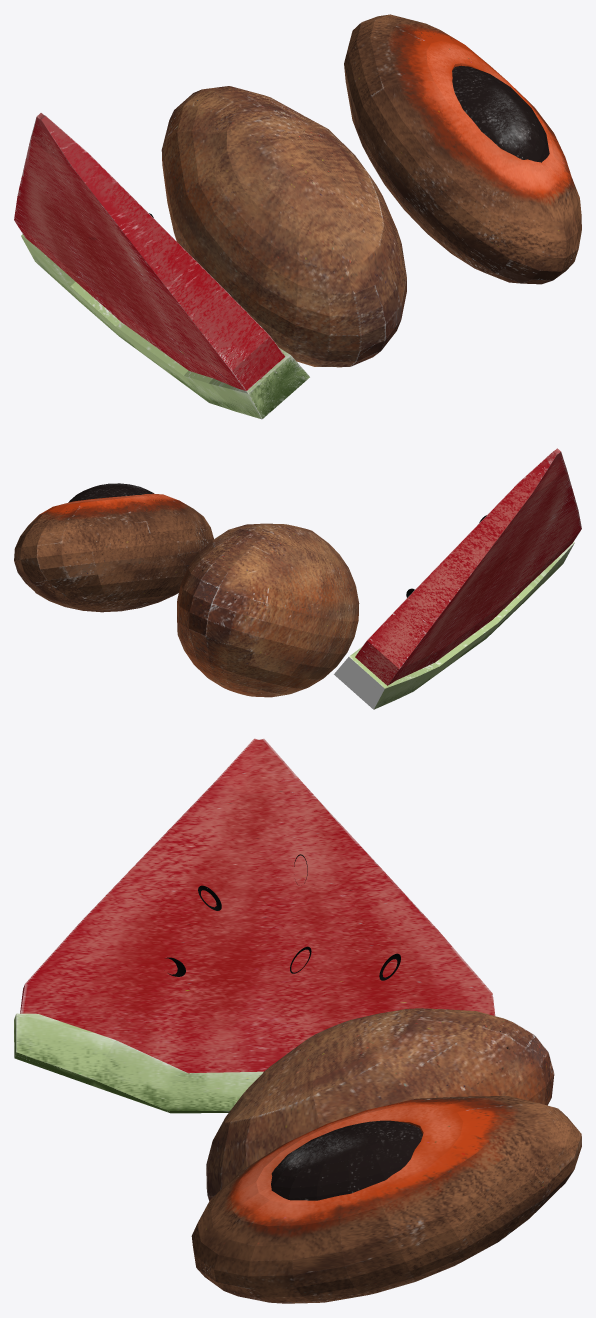
Rendered from dulce.glb.
3 renders of one model, top to bottom at view 1: azimuth 30°, elevation 25°; view 2: azimuth 150°, elevation 25°; view 3: azimuth 270°, elevation 25°, orthographic. The views are drawn at different scales.
Parts seen in each view (by area): view 1: mamey_complet_, mamey_partido_, sandia base, p; view 2: mamey_complet_, sandia base, mamey_partido_, p; view 3: sandia base, mamey_partido_, mamey_complet_, p.
Boxes of the visible parts, x1,y1,x2,y2 form: mamey_complet_: [161, 86, 406, 367]; mamey_partido_: [344, 14, 581, 284]; sandia base: [14, 113, 309, 419]; p: [452, 65, 549, 162]; mamey_complet_: [177, 523, 359, 697]; sandia base: [334, 448, 581, 709]; mamey_partido_: [14, 493, 213, 612]; p: [68, 483, 153, 502]; sandia base: [14, 738, 495, 1113]; mamey_partido_: [191, 1096, 581, 1303]; mamey_complet_: [206, 1008, 554, 1200]; p: [271, 1120, 422, 1200].
Bounding box in the file's own units: 2.78 × 1.59 × 2.27.
Materials: 4 (4 with a texture image).
